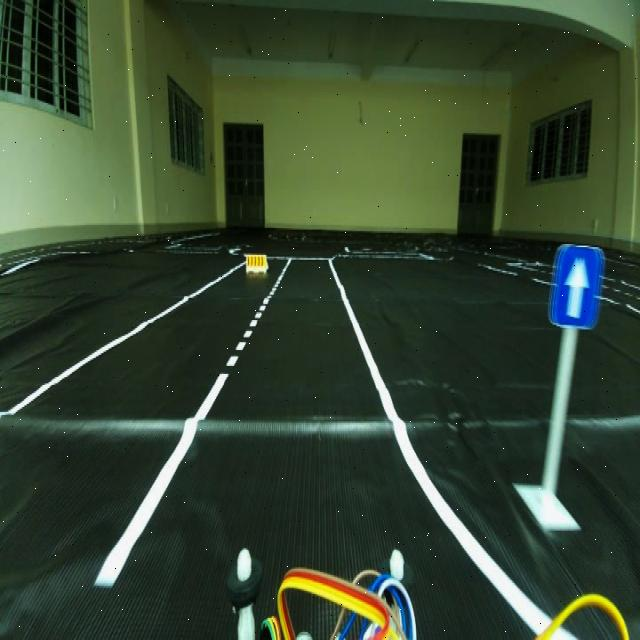onewayroad: (551, 246, 605, 334)
roadblock: (244, 250, 270, 285)
